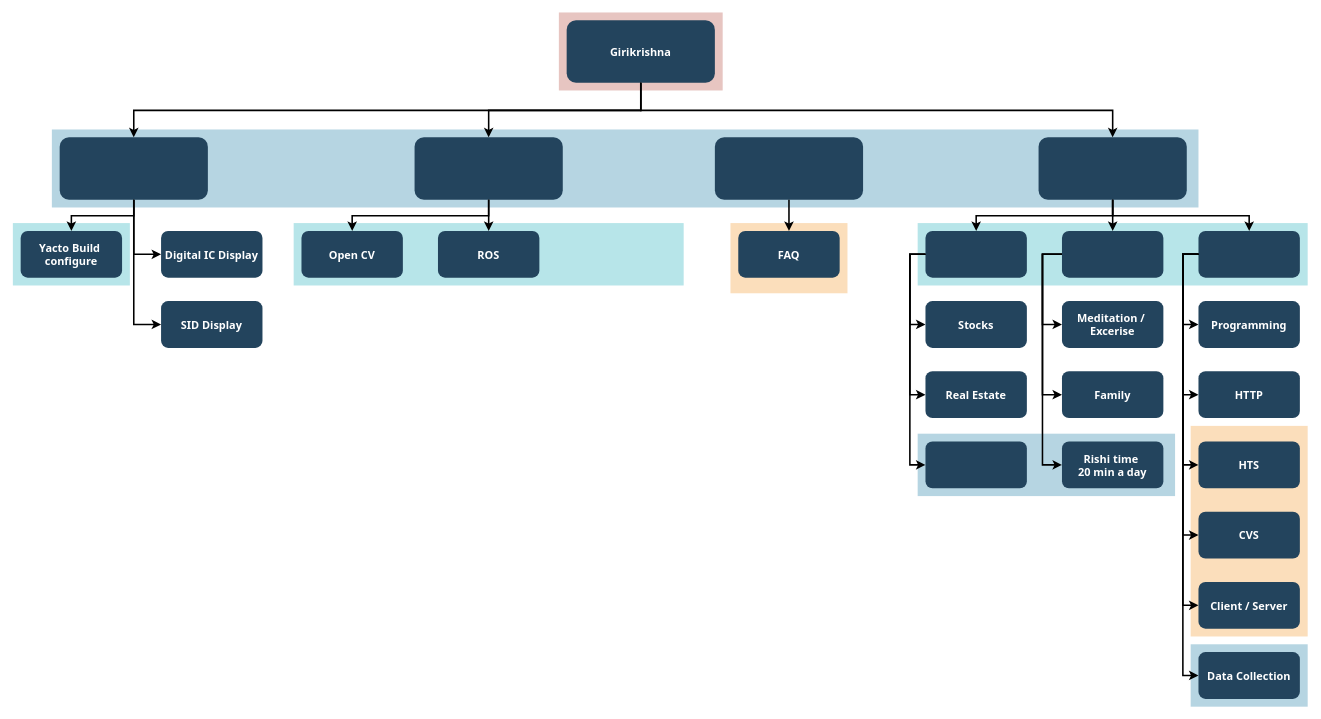
This 1321x719 diagram has some shape labels left out. The centre of each missing label's shape, as x and y in pixels:
Automomas: point 488,168
C++: point 788,168
Income: point 975,253
Linux: point 133,168
Love: point 1112,253
Personal: point 1112,168
Todo: point 1248,253
